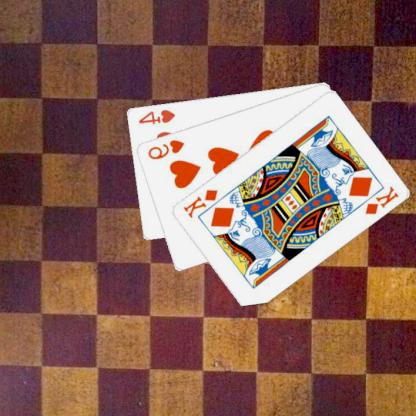4H: (138, 107, 178, 126)
9H: (146, 136, 187, 160)
KD: (182, 186, 221, 220), (364, 184, 402, 216)
